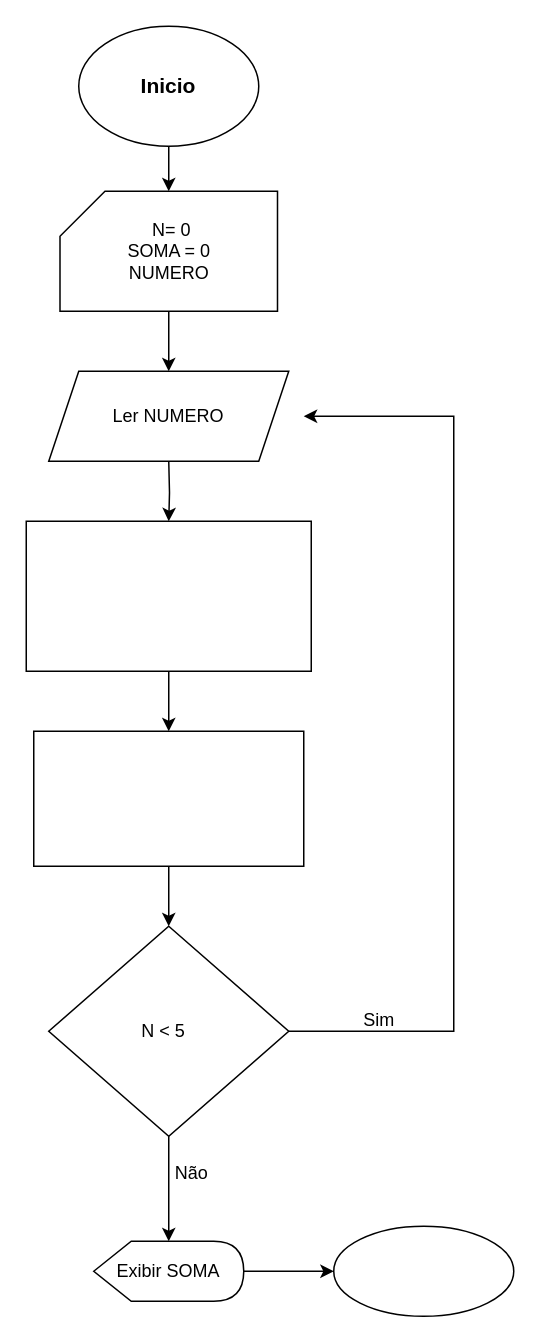
Image size: 540x1343. Some labels were removed from this diagram. Each missing label, with the centre of its shape:
"Fim" goes at (423,1270).
"N = (N + 1)" goes at (168,798).
"SOMA = SOMA + NUMERO" goes at (168,595).
